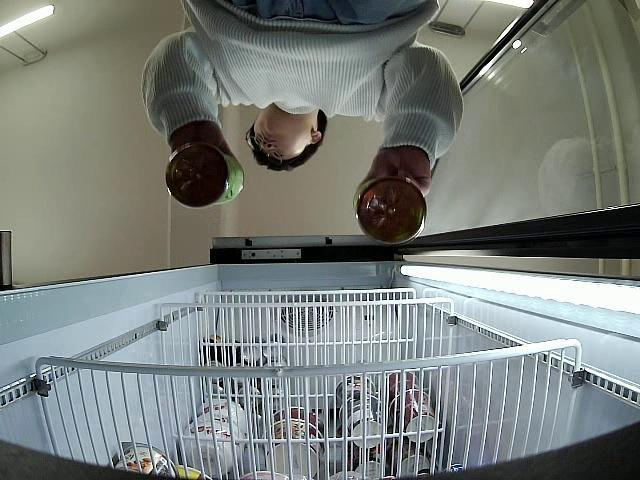19_17cha: (354, 173, 427, 242)
